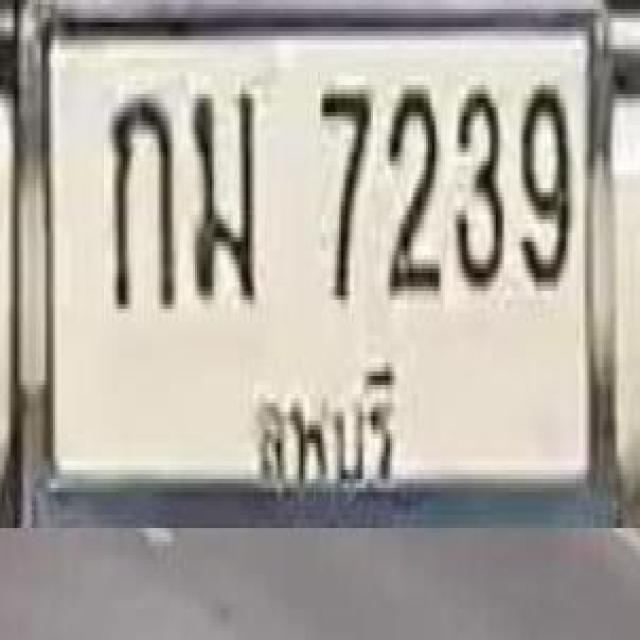license_plate: (18, 0, 624, 531)
